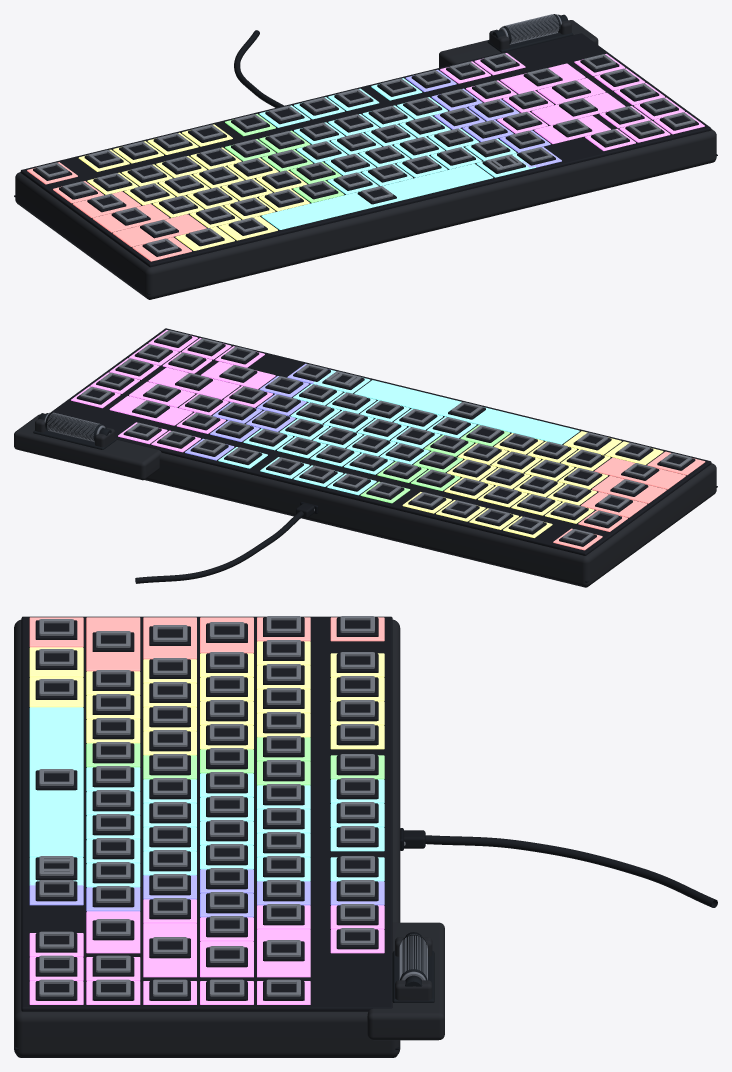
3 views of the same model, one above another, from view 1: azimuth 30°, elevation 25°; view 2: azimuth 150°, elevation 25°; view 3: azimuth 270°, elevation 25° (orthographic). The views are drawn at different scales.
Parts seen in each view (by area): view 1: Housing, Switch plate, RGB 56, Controls | Integrated rear bridge, RGB 40, RGB 41, RGB 13, Media roller, RGB 28, RGB 52, Refined | Braided cable, RGB 27 (+2 smaller); view 2: Housing, Switch plate, Controls | Integrated rear bridge, RGB 56, Refined | Braided cable, RGB 41, RGB 40, RGB 13, Media roller, RGB 52, RGB 28, RGB 14 (+3 smaller); view 3: Switch plate, Housing, RGB 56, Controls | Integrated rear bridge, Refined | Braided cable, RGB 40, RGB 41, RGB 13, RGB 52, RGB 28, RGB 27, RGB 14 (+4 smaller).
Part boxes in pixels (x1,y1,x2,y2): Housing: (15, 129, 716, 298); Switch plate: (20, 33, 711, 267); RGB 56: (261, 163, 493, 229); Controls | Integrated rear bridge: (439, 20, 598, 67); RGB 40: (531, 92, 625, 125); RGB 41: (112, 214, 206, 246); RGB 13: (500, 63, 585, 93); Media roller: (501, 14, 560, 43); RGB 28: (92, 204, 169, 232); RGB 52: (534, 115, 610, 143); Refined | Braided cable: (234, 30, 283, 107); RGB 27: (537, 78, 605, 104); Housing: (145, 452, 716, 586); Switch plate: (51, 328, 711, 555); Controls | Integrated rear bridge: (14, 414, 161, 480); RGB 56: (354, 380, 579, 444); Refined | Braided cable: (135, 511, 303, 583); RGB 41: (594, 457, 685, 489); RGB 40: (148, 367, 239, 399); RGB 13: (109, 396, 192, 425); Media roller: (45, 412, 102, 441); RGB 52: (201, 361, 275, 389); RGB 28: (592, 475, 666, 503); RGB 14: (581, 492, 647, 517); Switch plate: (21, 616, 392, 1011); Housing: (14, 619, 400, 1057); RGB 56: (29, 707, 83, 857); Controls | Integrated rear bridge: (367, 922, 444, 1040); Refined | Braided cable: (425, 835, 717, 907); RGB 40: (143, 923, 196, 977); RGB 41: (86, 617, 140, 671); RGB 13: (257, 929, 310, 977); RGB 52: (86, 911, 140, 953); RGB 28: (143, 617, 196, 659); RGB 27: (200, 941, 253, 977); RGB 14: (200, 617, 253, 653).
Bounding box in the file's own units: 0.3185 × 0.0286 × 0.2361.
